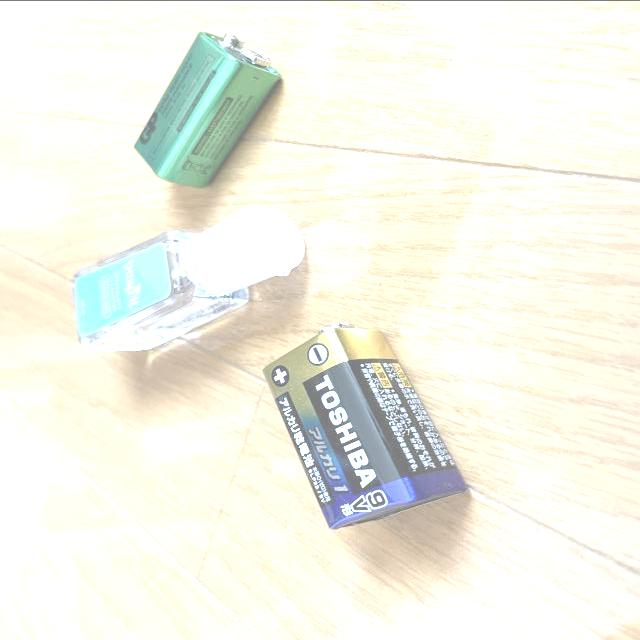9V: (261, 321, 464, 527), (132, 29, 282, 187)
